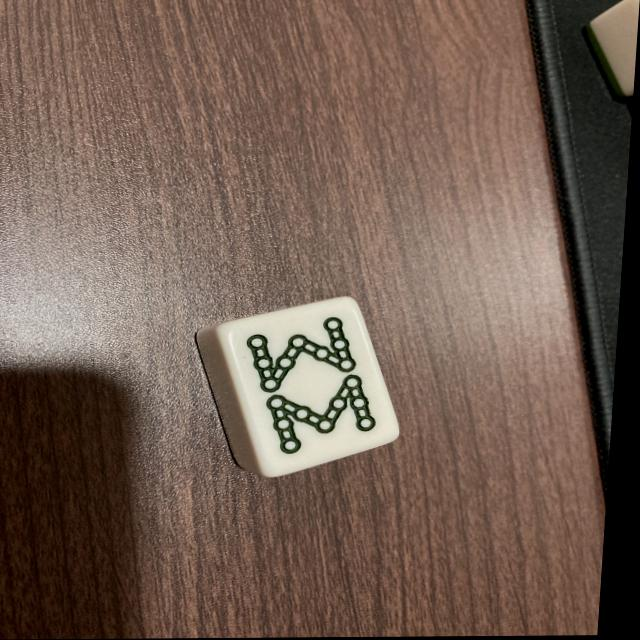s8: (217, 298, 410, 474)
